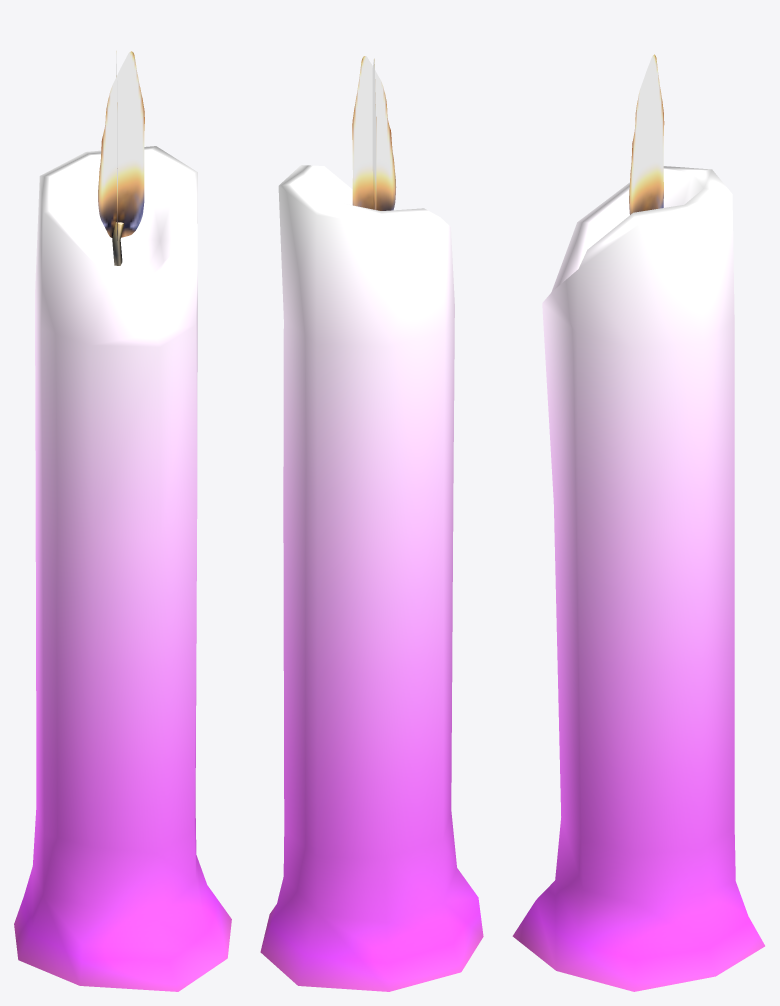
File: CandleShapeA.028.glb
3 views of the same model, side by side, from view 1: azimuth 30°, elevation 25°; view 2: azimuth 150°, elevation 25°; view 3: azimuth 270°, elevation 25° (orthographic).
Parts seen in each view (by area): view 1: CandleShapeA.028; view 2: CandleShapeA.028; view 3: CandleShapeA.028.
Part boxes in pixels (box(x1,y1,x2,y2)): CandleShapeA.028: box(14, 51, 231, 991); CandleShapeA.028: box(260, 56, 483, 991); CandleShapeA.028: box(512, 54, 764, 991).
Bounding box in the file's own units: 0.0814 × 0.3472 × 0.0887.
2 materials, 2 textured.
